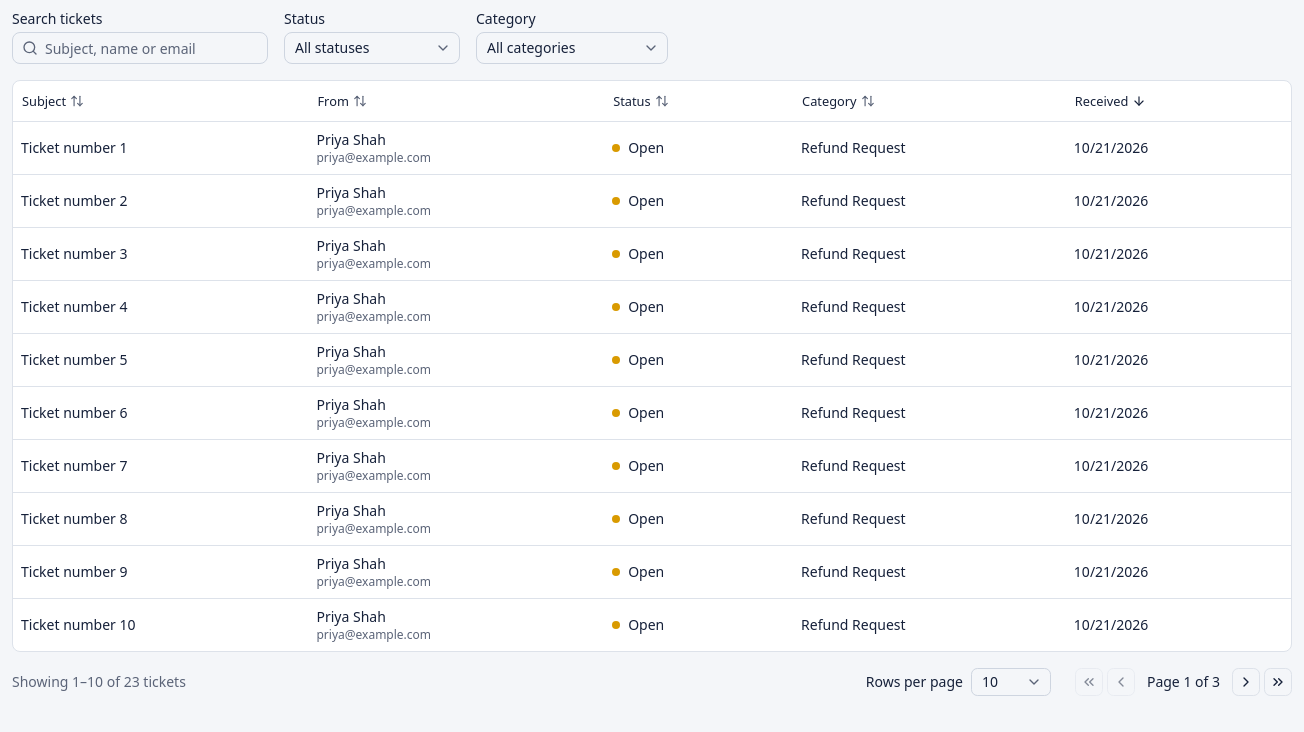
Test: TicketsTable › pagination › jumps to the last page and back to the first
The width and height of the screenshot is (1304, 732).
Expected: the link "Ticket number 1" is shown, [21,138,128,156]
Click the button named "Go to last page".
click(1278, 682)  # box [1264,668,1292,696]
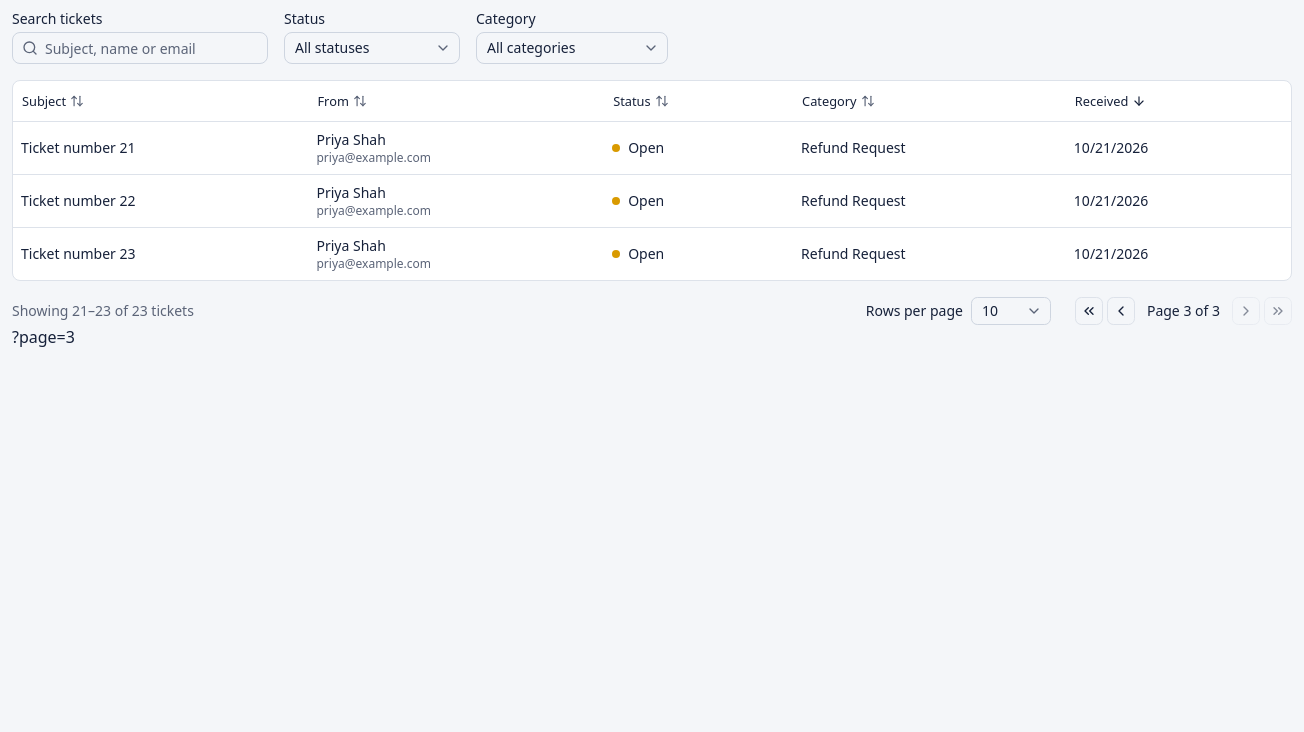
Expected: the link "Ticket number 21" is shown, [21,138,136,156]
Expected: the text "Showing 21–23 of 23 tickets" is shown, [12,300,194,320]
Expected: the button named "Go to last page" is disabled, [1264,296,1292,324]
Click the button named "Go to first page".
click(1089, 310)  # box [1075,296,1103,324]
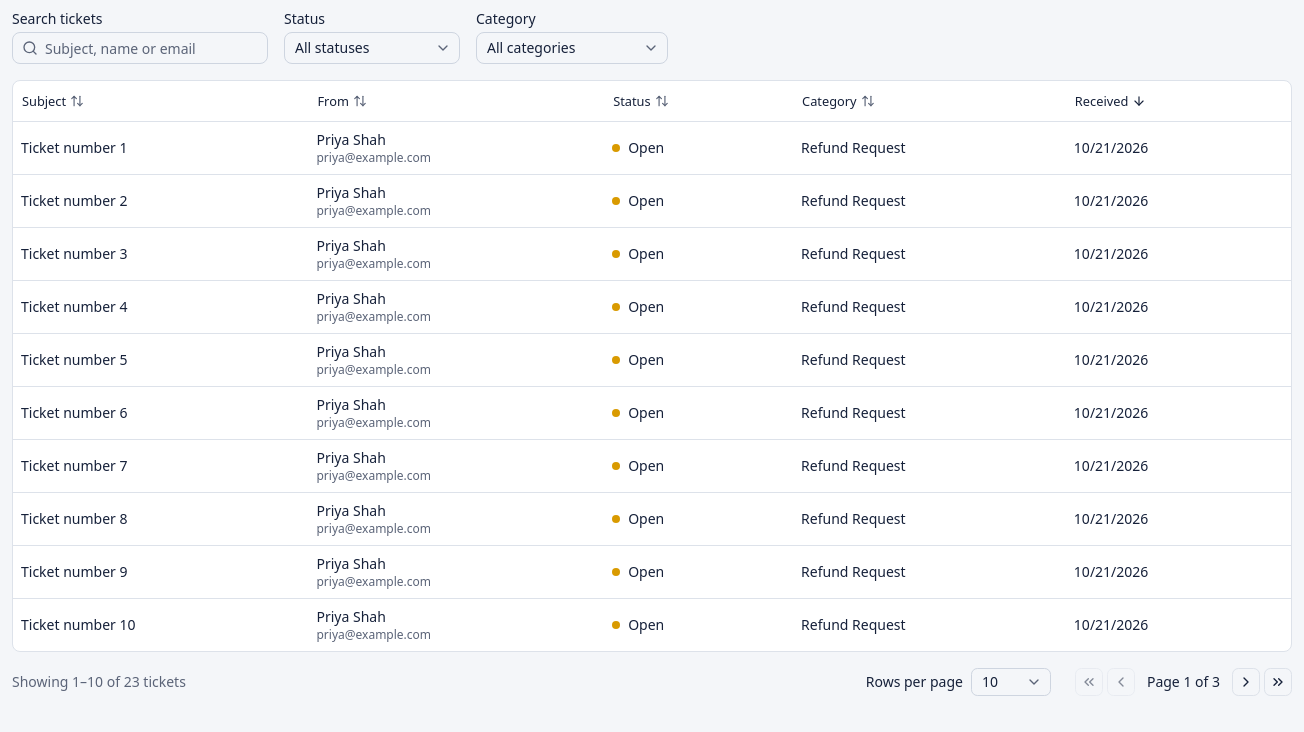
Expected: the link "Ticket number 1" is shown, [21,138,128,156]
